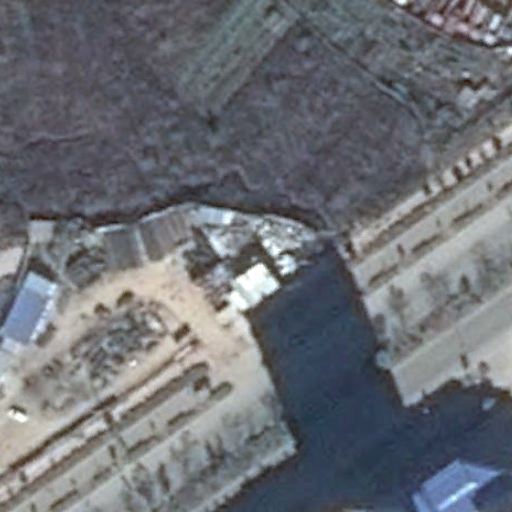msw: (28, 294, 166, 421)
